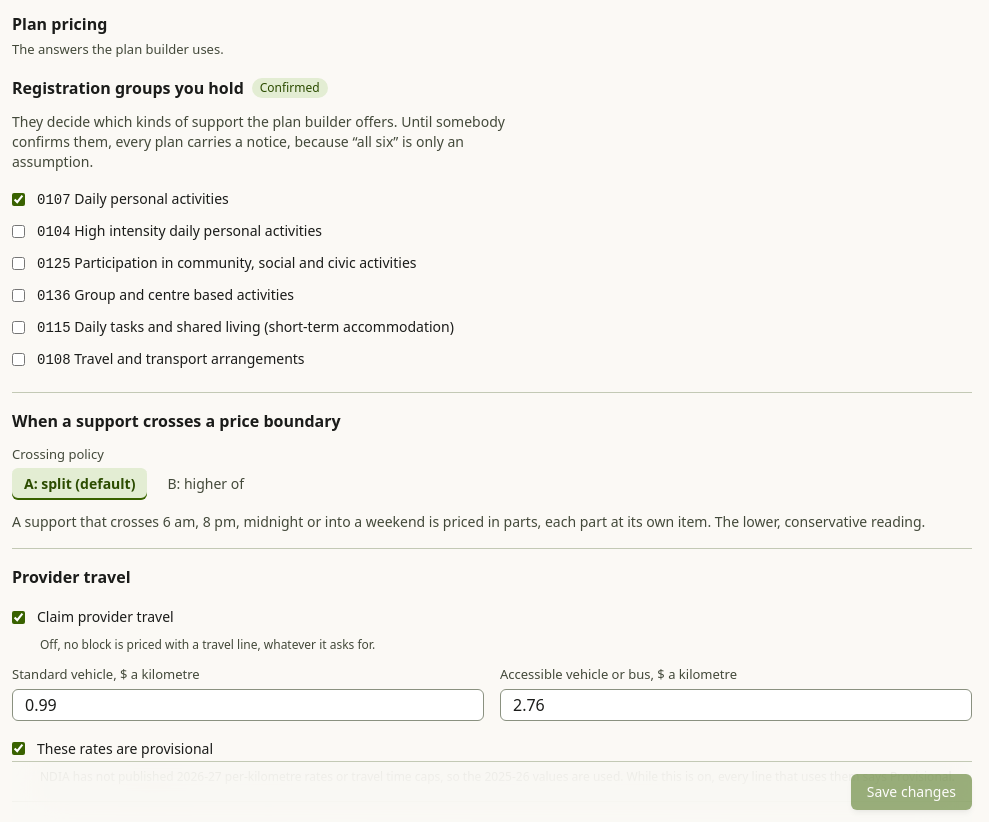
Test case: Plan pricing settings › says that no group at all means nothing can be priced, and counts it as a field to fix
Click the checkbox labelled "0107 Daily personal activities". click: [18, 200]
box: [12,193,25,206]
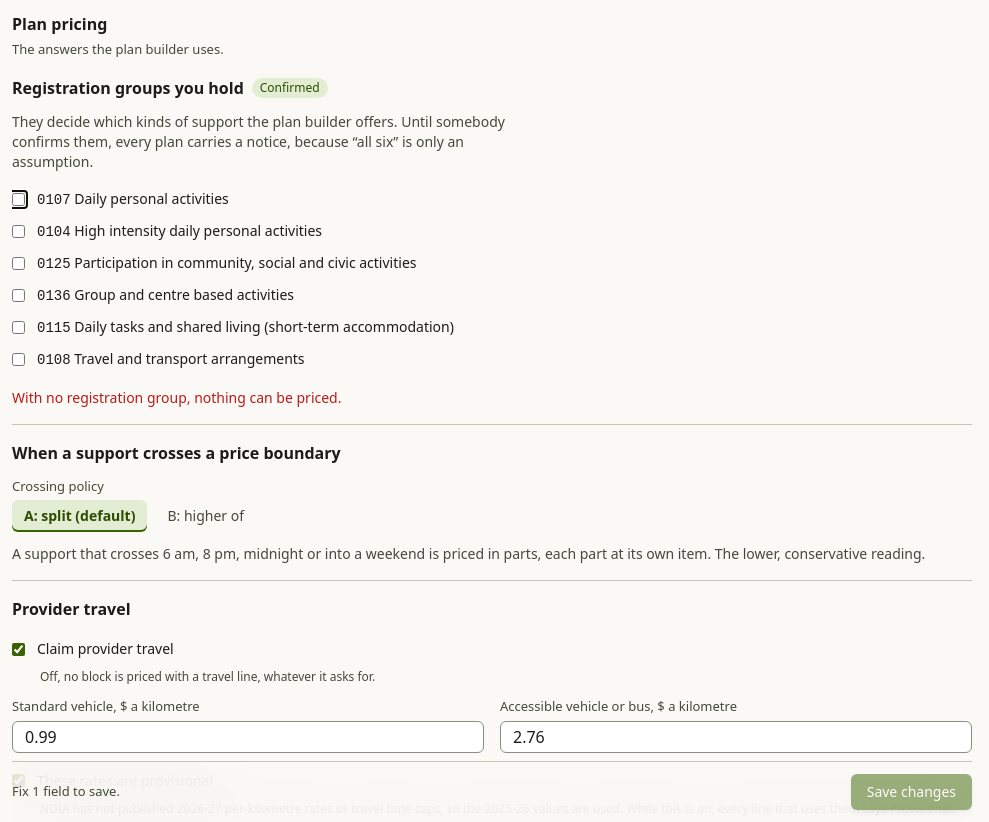
Expected: the button "Save changes" is disabled, [851,774,972,810]
Expected: the message "With no registration group, nothing can be priced." is shown, [12,388,342,406]
Expected: the message "Fix 1 field to save." is shown, [12,782,120,800]
